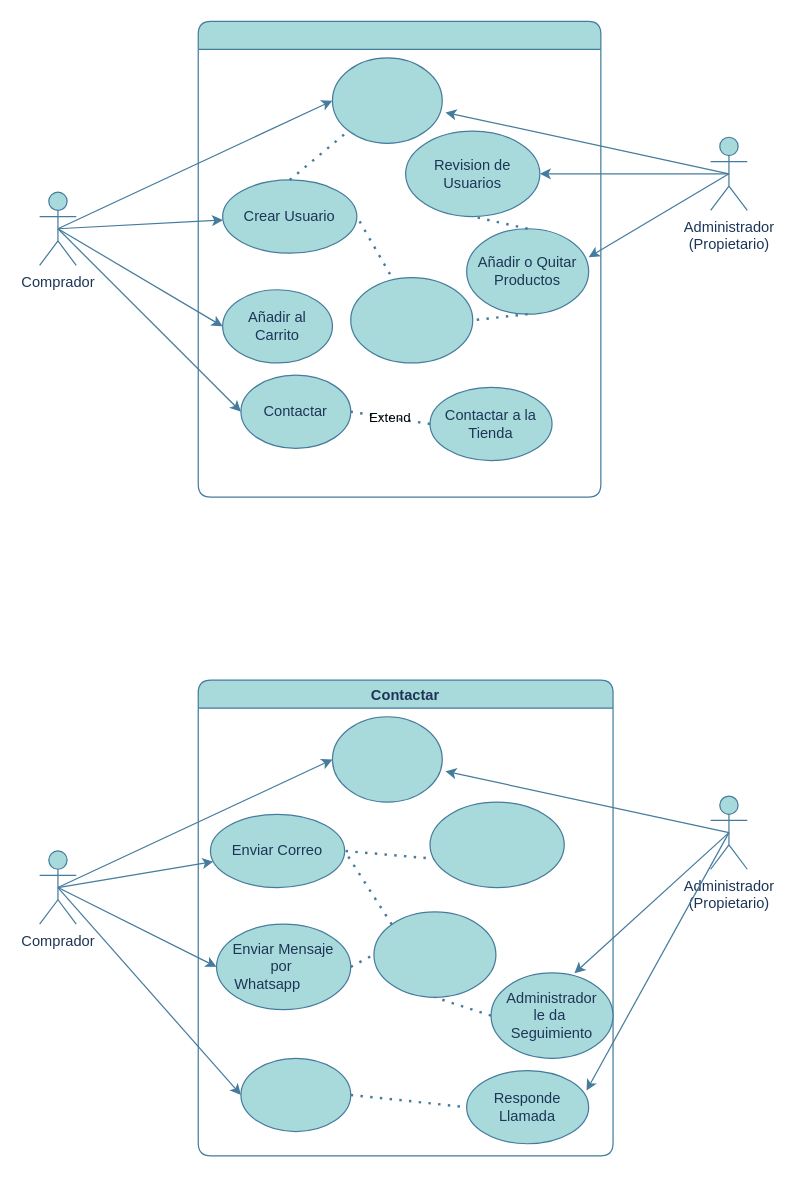
Image size: 794x1177. Some labels were removed from this diagram. The box of each missing label's shape, as (x1, y1, x2, y2) in pixels:
Aplicacion Web: (197, 20, 601, 497)
Ingresar al Sitio: (331, 57, 442, 143)
Llamada Telefonica: (240, 1057, 351, 1132)
Respuesta Automatica del Servidor: (429, 801, 564, 888)
Respuesta Personalizada: (373, 911, 496, 997)
Revisar Catalogo: (350, 276, 473, 363)
Seleccionar Medio de Contacto: (331, 716, 442, 802)
